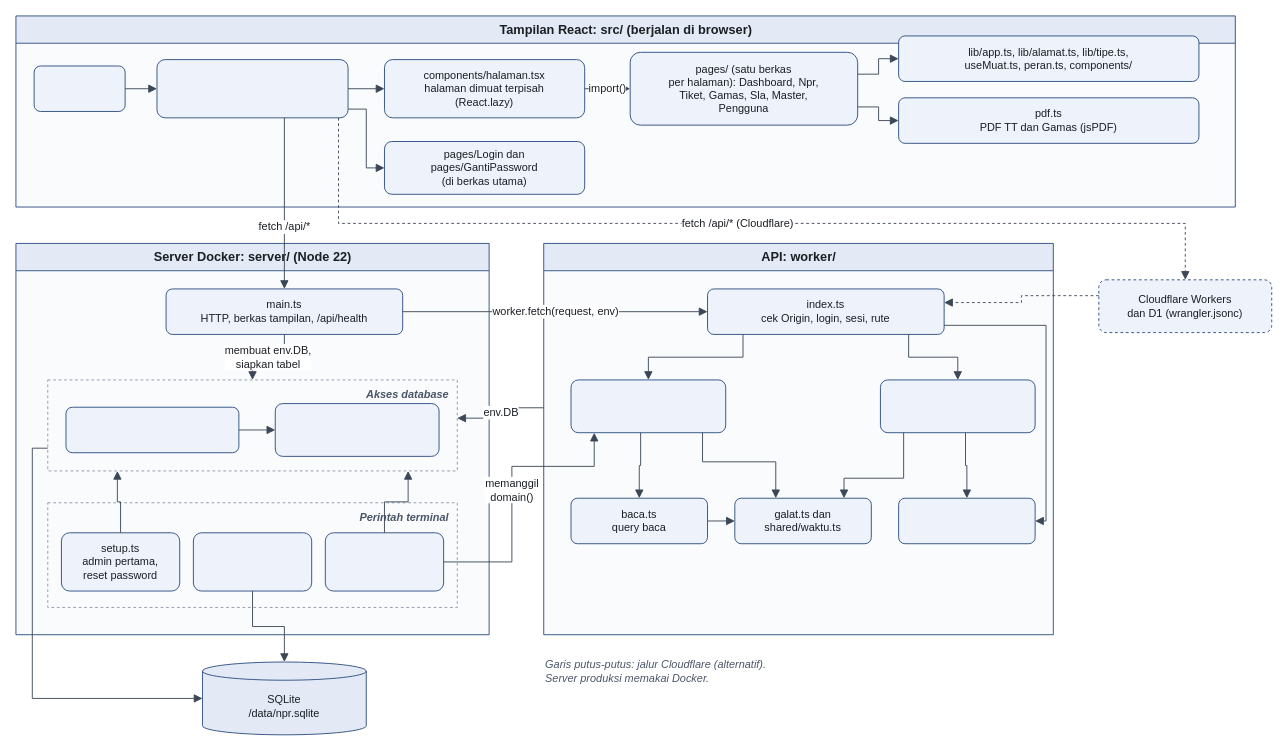
Some shapes in this 1288 by 751 pixel diagram are drawn without their labels. Here are the shapes that lost their labels. From the top down, the centre of each, then its label:
At point (79, 88): "main.tsx".
At point (252, 88): "App.tsx cek sesi, menu, api(), kirim(), go()".
At point (648, 406): "domain.ts simpan data, aturan, SLA".
At point (957, 406): "pengguna.ts akun dan password".
At point (152, 429): "migrasi.ts schema.sql dan migrations/".
At point (356, 429): "d1.ts antarmuka D1 di atas node:sqlite".
At point (966, 520): "sandi.ts PBKDF2".
At point (252, 561): "cadangan.ts salinan database".
At point (384, 561): "demo.ts isi atau hapus data demo".
